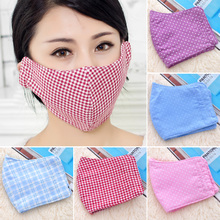face_mask: (29, 9, 120, 128)
